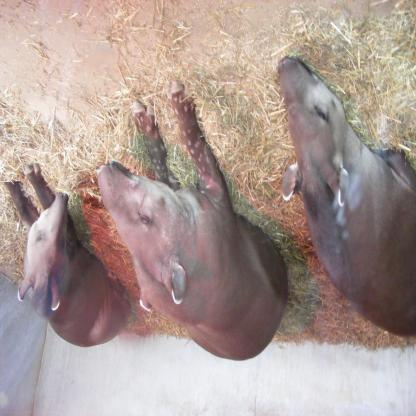boar: (96, 81, 289, 363), (276, 56, 416, 339), (4, 162, 132, 350)
